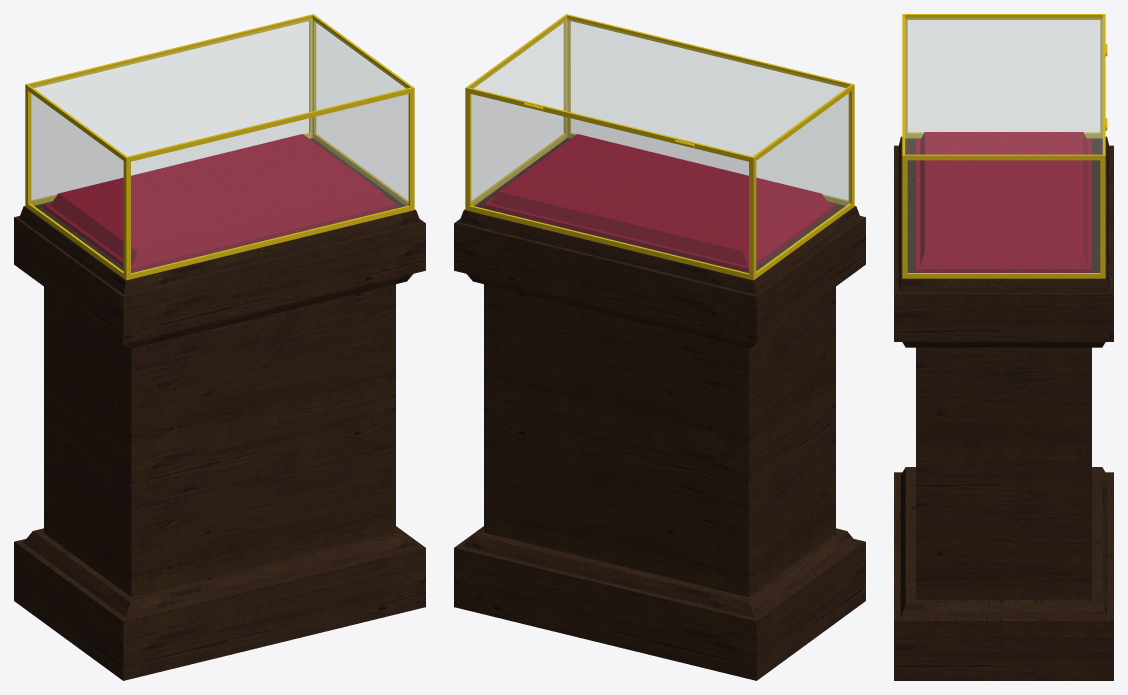
Rendered from society_case.glb.
The picture shows the model from 3 angles, left to right: view 1: azimuth 30°, elevation 25°; view 2: azimuth 150°, elevation 25°; view 3: azimuth 270°, elevation 25°; orthographic projection.
Visible parts, largest first — view 1: body, glass_case, body_bottom, glass_case_top, velvet, body_top, body_bottom_upper_trim, body_top_upper_trim, lower_case_trim, upper_case_trim, body_top_lower_trim; view 2: body, glass_case, body_bottom, glass_case_top, velvet, body_top, body_bottom_upper_trim, body_top_upper_trim, lower_case_trim, upper_case_trim, body_top_lower_trim; view 3: body, glass_case, glass_case_top, velvet, body_bottom, body_top, body_bottom_upper_trim, body_top_upper_trim, lower_case_trim, upper_case_trim, body_top_lower_trim.
Boxes of the visible parts, bbox=[...] form: body: bbox=[44, 284, 395, 596]; glass_case: bbox=[31, 21, 408, 272]; body_bottom: bbox=[14, 526, 425, 680]; glass_case_top: bbox=[33, 18, 407, 156]; velvet: bbox=[44, 134, 395, 272]; body_top: bbox=[14, 216, 425, 344]; body_bottom_upper_trim: bbox=[23, 527, 416, 617]; body_top_upper_trim: bbox=[19, 138, 420, 294]; lower_case_trim: bbox=[25, 20, 414, 280]; upper_case_trim: bbox=[25, 14, 414, 162]; body_top_lower_trim: bbox=[124, 274, 412, 348]; body: bbox=[484, 284, 835, 596]; glass_case: bbox=[471, 21, 849, 272]; body_bottom: bbox=[454, 526, 865, 680]; glass_case_top: bbox=[472, 18, 845, 156]; velvet: bbox=[484, 134, 835, 272]; body_top: bbox=[454, 216, 865, 344]; body_bottom_upper_trim: bbox=[463, 527, 856, 617]; body_top_upper_trim: bbox=[459, 138, 860, 294]; lower_case_trim: bbox=[465, 20, 854, 280]; upper_case_trim: bbox=[465, 14, 854, 162]; body_top_lower_trim: bbox=[467, 274, 755, 348]; body: bbox=[916, 347, 1091, 599]; glass_case: bbox=[907, 20, 1099, 272]; glass_case_top: bbox=[905, 18, 1102, 154]; velvet: bbox=[916, 132, 1091, 272]; body_bottom: bbox=[894, 472, 1113, 680]; body_top: bbox=[894, 145, 1113, 341]; body_bottom_upper_trim: bbox=[900, 467, 1107, 618]; body_top_upper_trim: bbox=[898, 136, 1109, 292]; lower_case_trim: bbox=[902, 20, 1105, 278]; upper_case_trim: bbox=[902, 14, 1105, 160]; body_top_lower_trim: bbox=[902, 342, 1105, 347].
Size of the model in its own units: 0.8 by 1.31 by 0.5.
4 materials, 2 textured.
